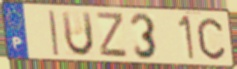1: (177, 14, 196, 62)
3: (129, 11, 159, 61)
C: (195, 16, 227, 62)
I: (47, 9, 61, 57)
U: (59, 9, 95, 58)
Z: (95, 11, 129, 60)
